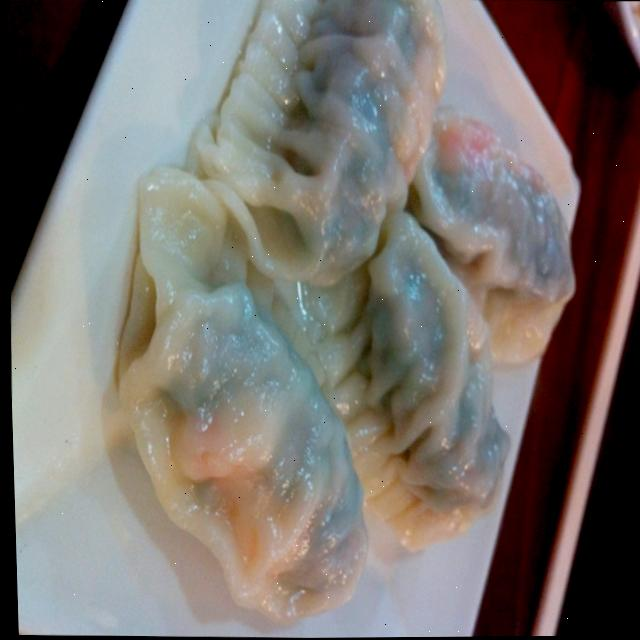带馅早点: (9, 0, 618, 622)
